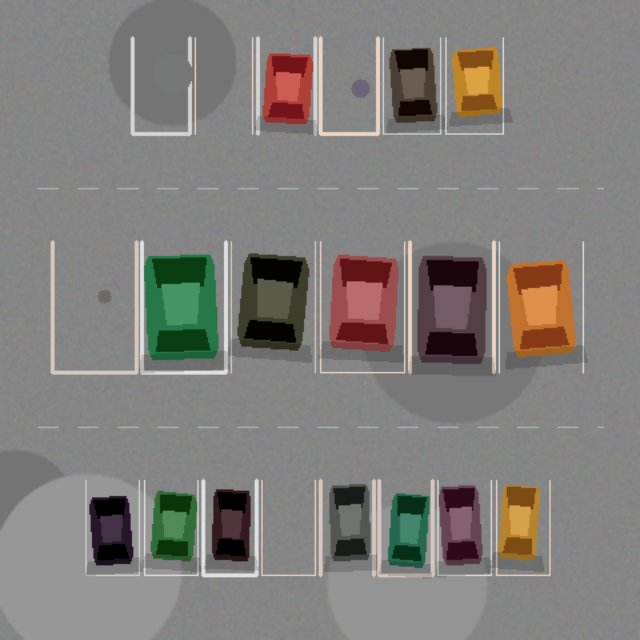space-empty: (52, 241, 136, 372), (132, 37, 189, 133), (195, 37, 252, 133), (320, 37, 377, 133), (261, 480, 315, 575)
space-occupied: (141, 241, 225, 372), (231, 241, 315, 372), (320, 241, 404, 372), (409, 241, 493, 372), (499, 241, 583, 372), (257, 37, 315, 133), (445, 37, 503, 133), (383, 37, 440, 133), (85, 480, 139, 575), (437, 480, 491, 575), (144, 480, 197, 575), (203, 480, 256, 575), (320, 480, 373, 575), (379, 480, 432, 575), (496, 480, 549, 575)
